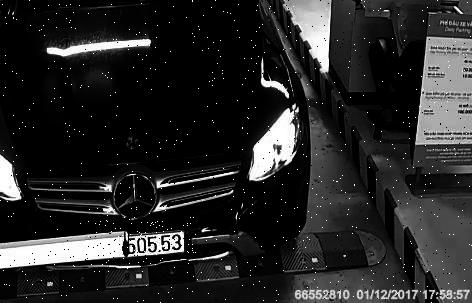License-plate: (87, 218, 200, 266)
